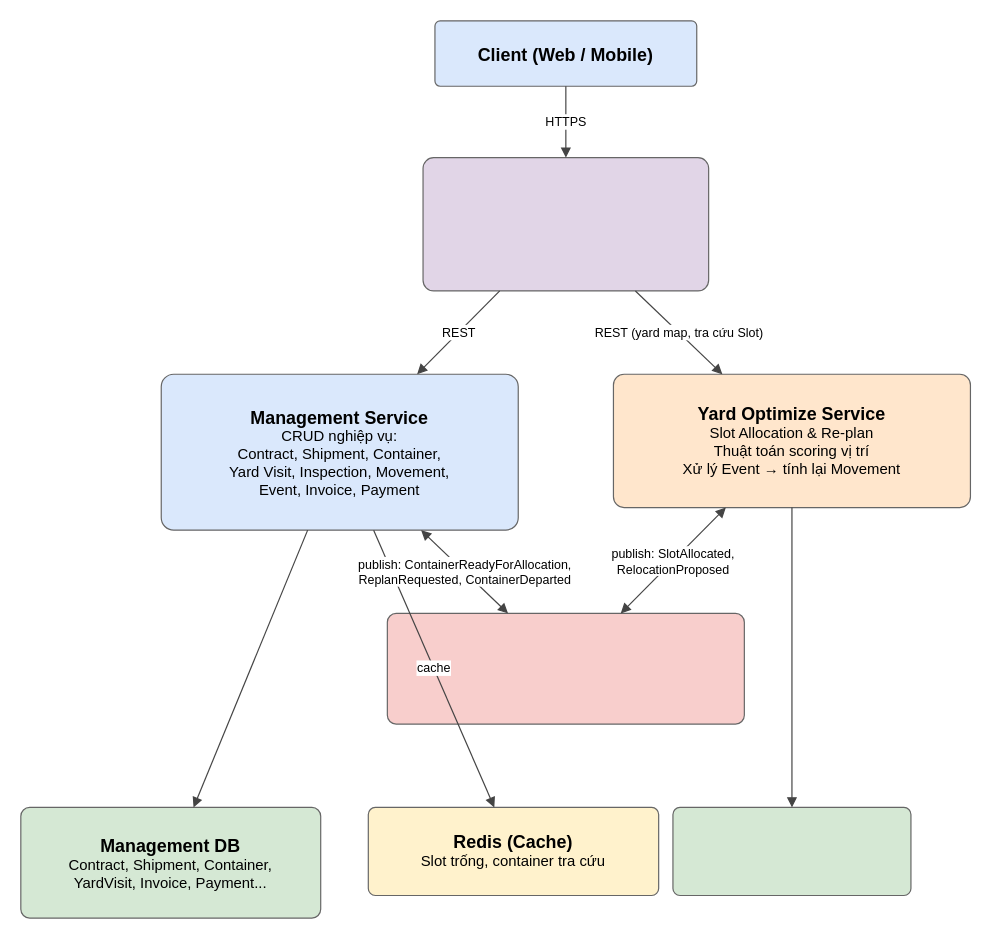
This 991x939 diagram has some shape labels left out. Each missing label, with the box of its shape:
API Gateway Xác thực JWT / OAuth2 Rate limit & CORS Định tuyến request: (422, 156, 709, 291)
Message Broker (Queue) vd: RabbitMQ / Kafka Giao tiếp bất đồng bộ giữa 2 service: (386, 612, 744, 724)
Optimize DB Slot (yard layout): (672, 806, 911, 895)
